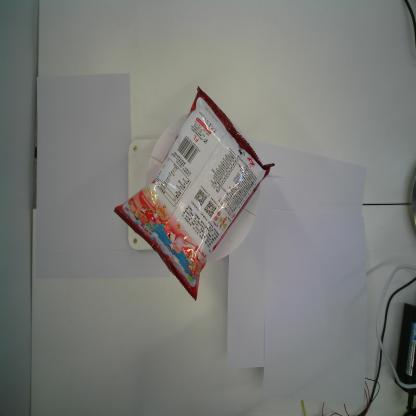Puffed Food: (112, 85, 275, 303)
